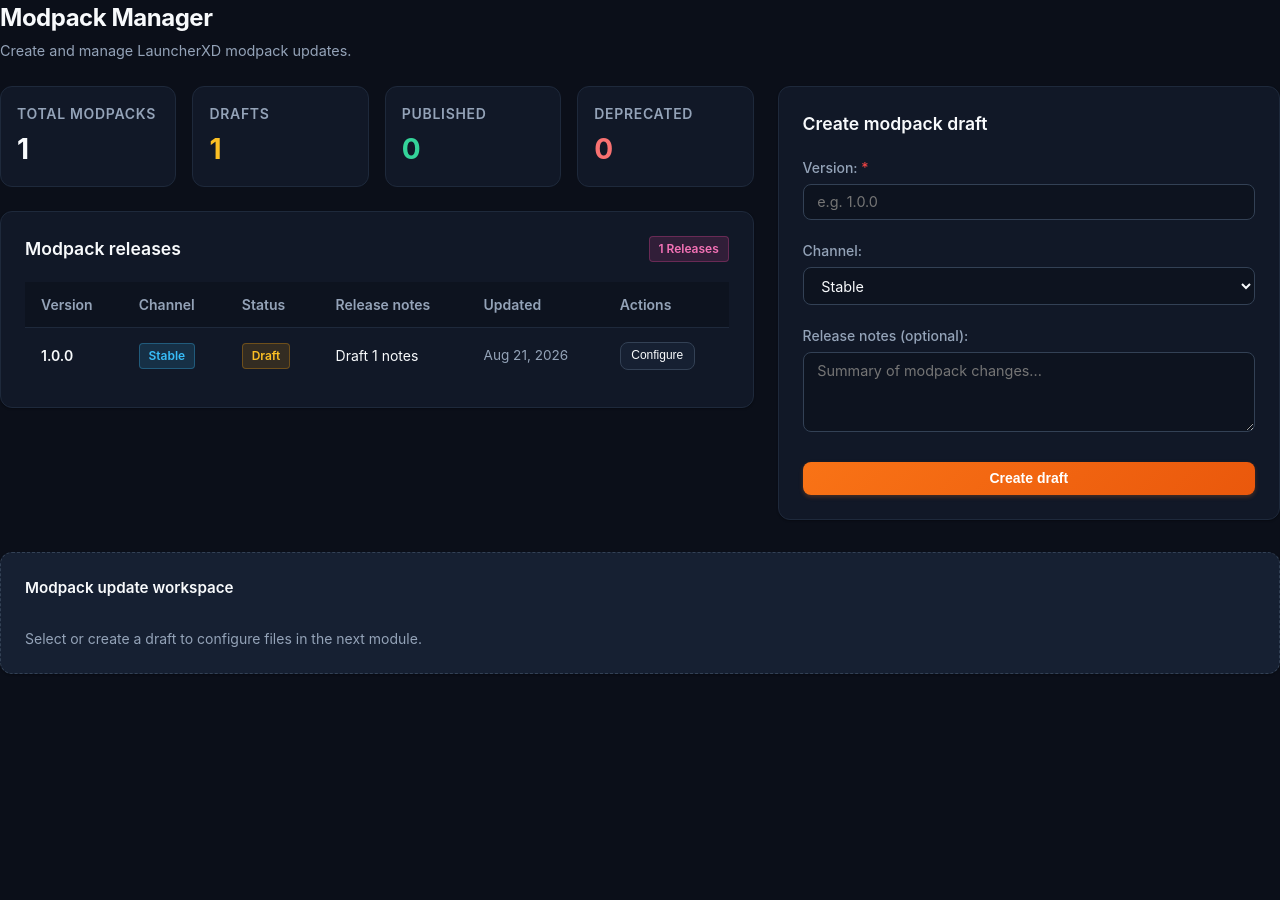
Test: Modpack Publish & GitHub Integration UI Functional Tests (Module 3B-2) › 7. getRelease() returning draft does not show success and displays an error
Click the button with test id "configure-modpack-modpack-draft-1" at (657, 356), box [620, 342, 695, 370]
(page scrolled)
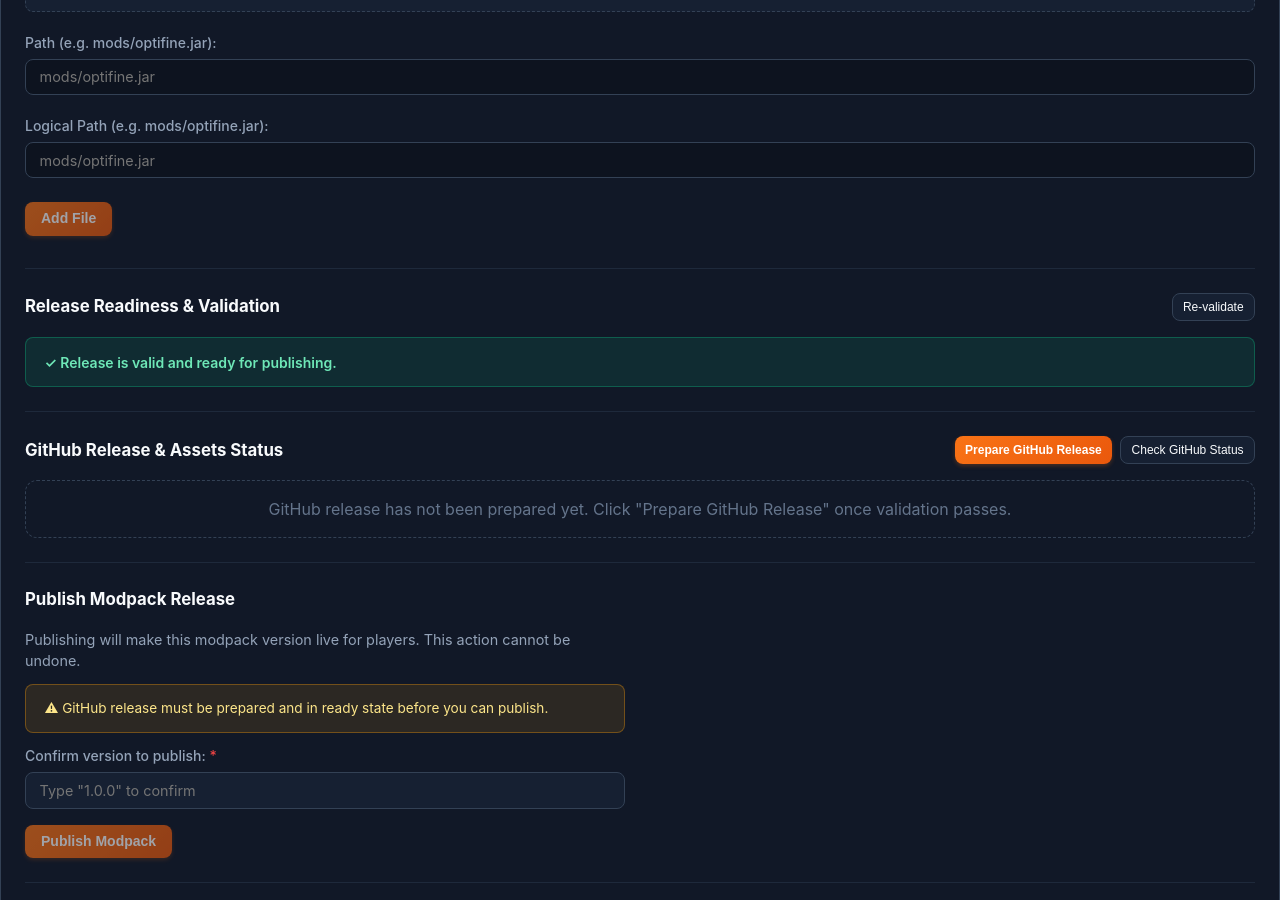
Click the button with test id "check-github-status-btn" at (1188, 450), box [1120, 436, 1255, 464]
(page scrolled)
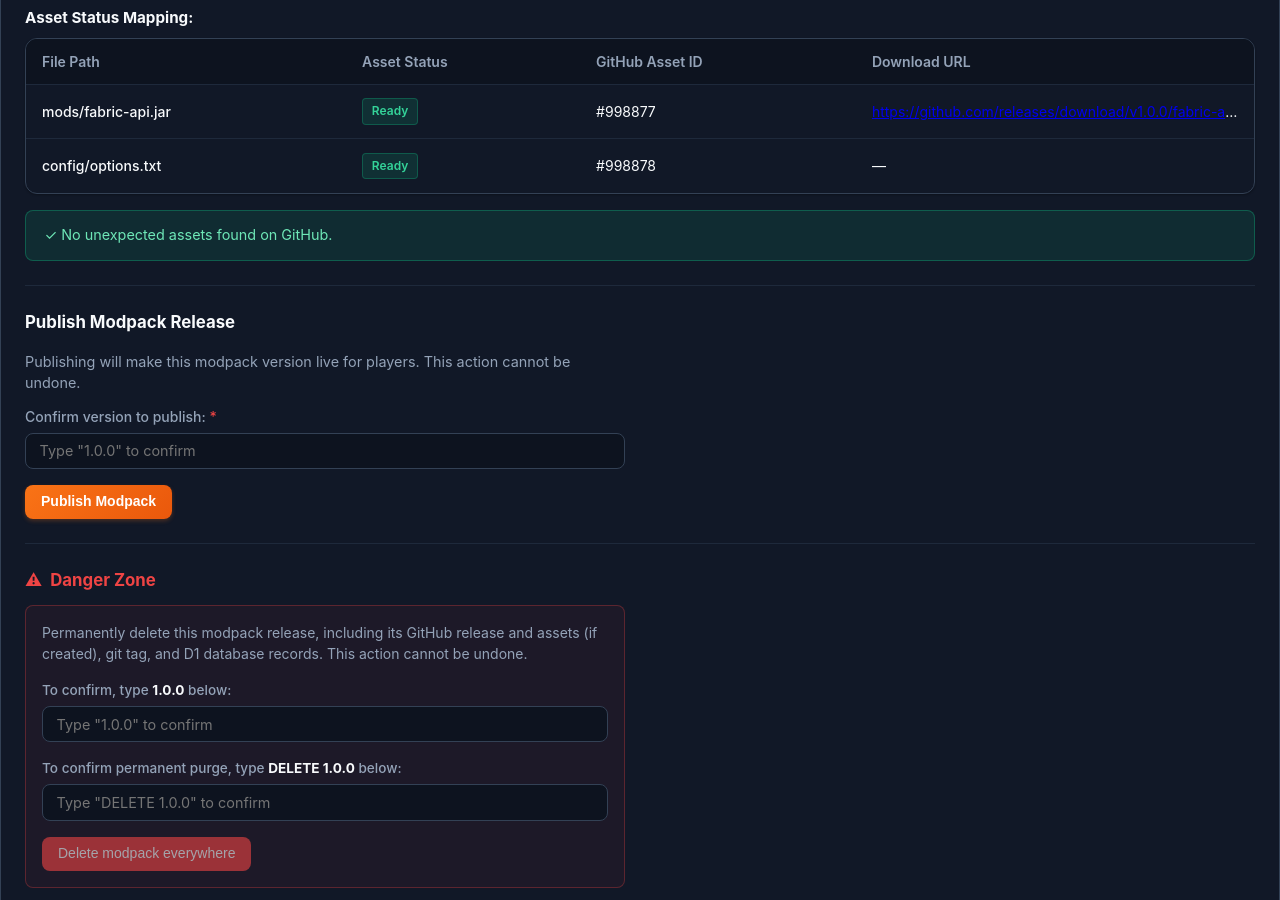
Type "1.0.0" into the field with test id "confirm-version-input" at (325, 451), box [25, 433, 625, 469]
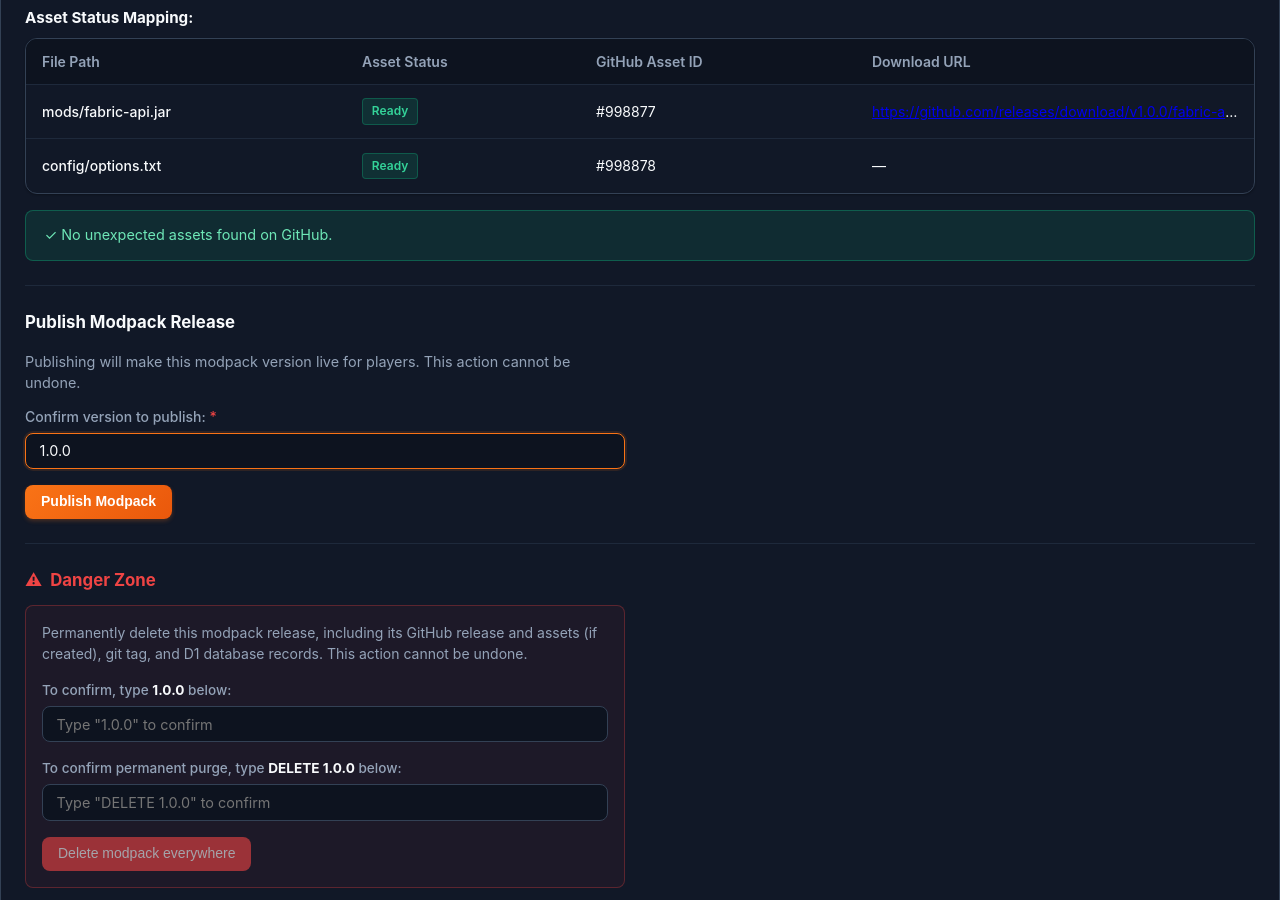
Click the button with test id "publish-release-btn" at (99, 502), box [25, 485, 172, 519]
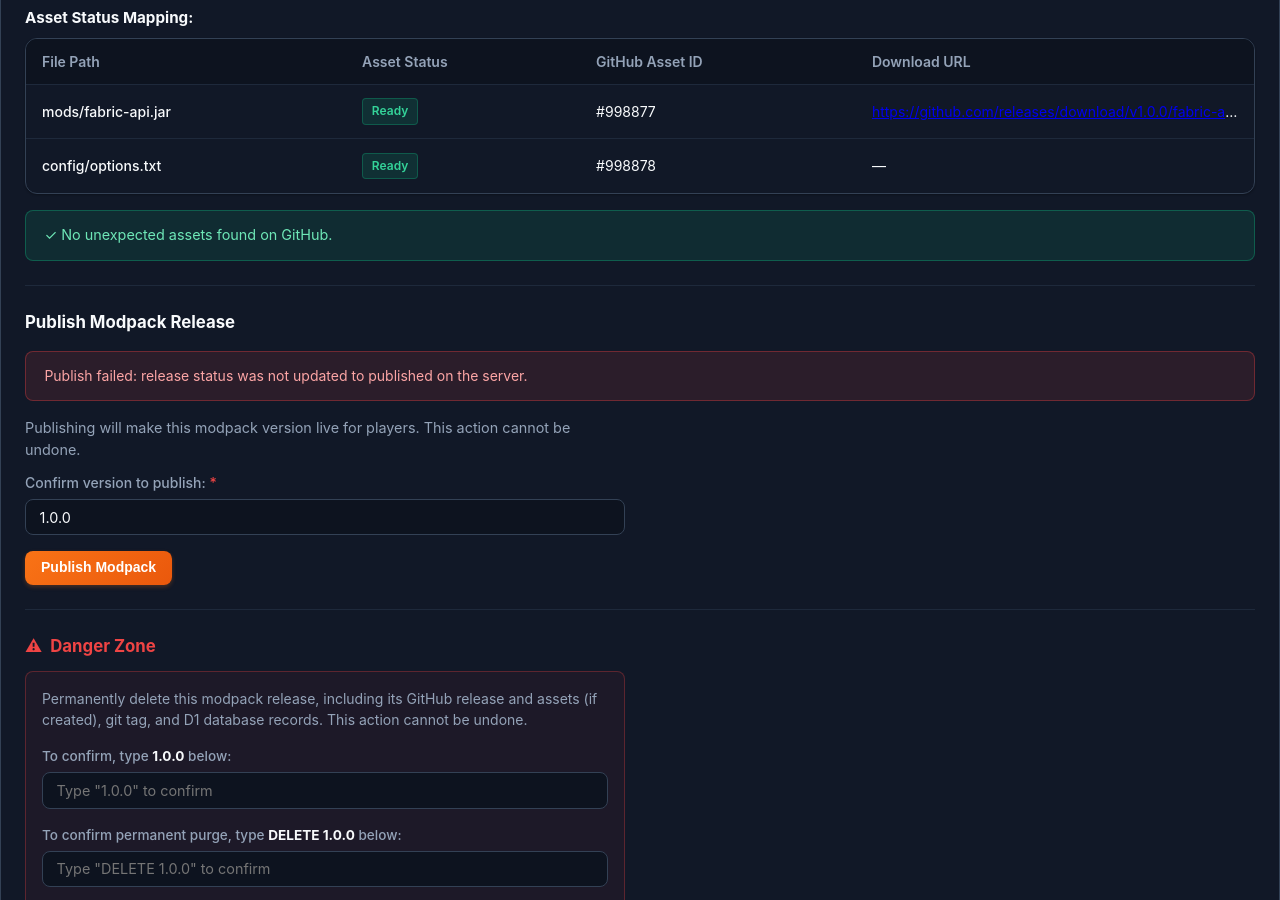
Expected: the text "Publish failed: release status was not updated to published on the server." is shown, [25, 351, 1255, 401]
